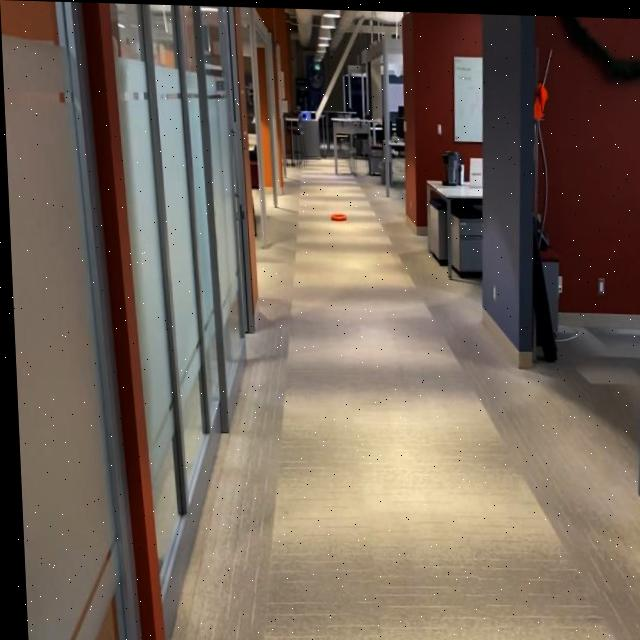note: (329, 205, 346, 224)
